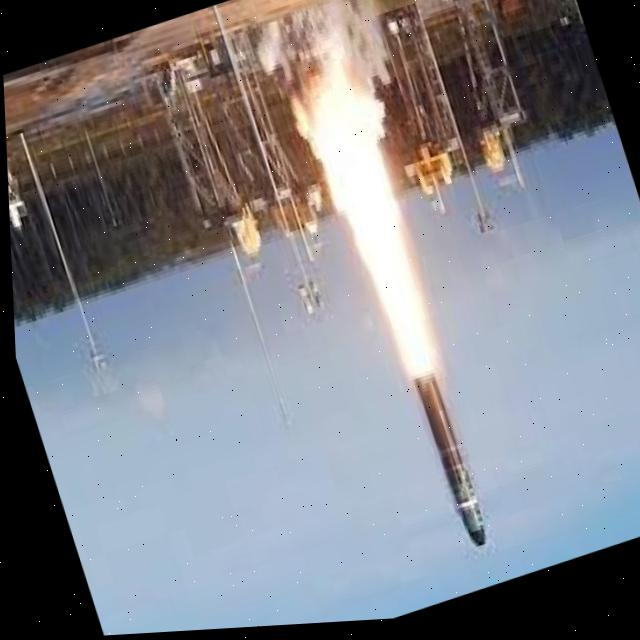missile: (388, 362, 497, 577)
